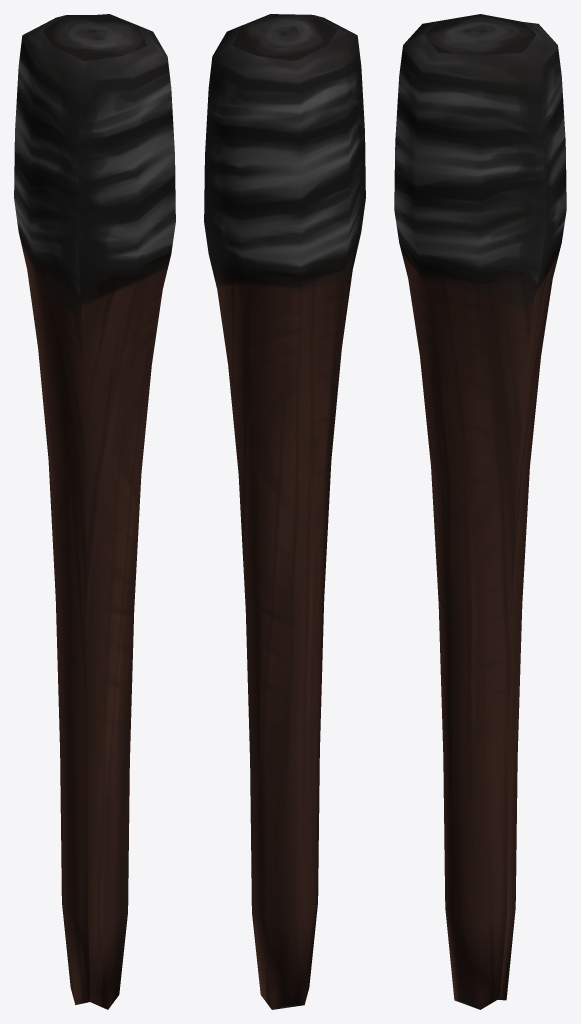
Rendered from touchlight.FBX.
3 renders of one model, left to right at view 1: azimuth 30°, elevation 25°; view 2: azimuth 150°, elevation 25°; view 3: azimuth 270°, elevation 25°, orthographic.
Parts seen in each view (by area): view 1: Box001; view 2: Box001; view 3: Box001.
Part boxes in pixels (x1,y1,x2,y2): Box001: (14, 14, 175, 1009); Box001: (204, 14, 365, 1009); Box001: (394, 14, 566, 1009).
Size of the model in its own units: 3.43 by 24.48 by 3.95.
